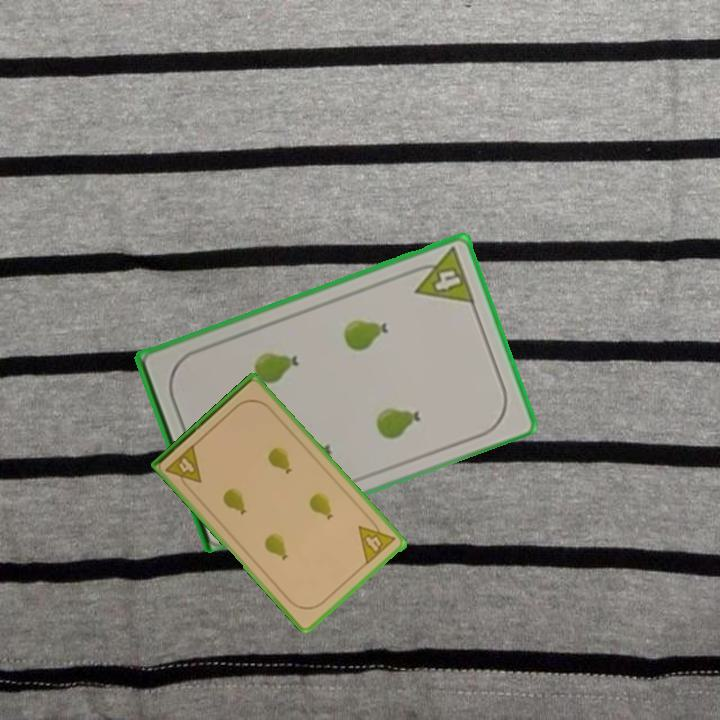4p: (404, 244, 478, 306), (355, 514, 398, 568), (162, 441, 205, 494)
